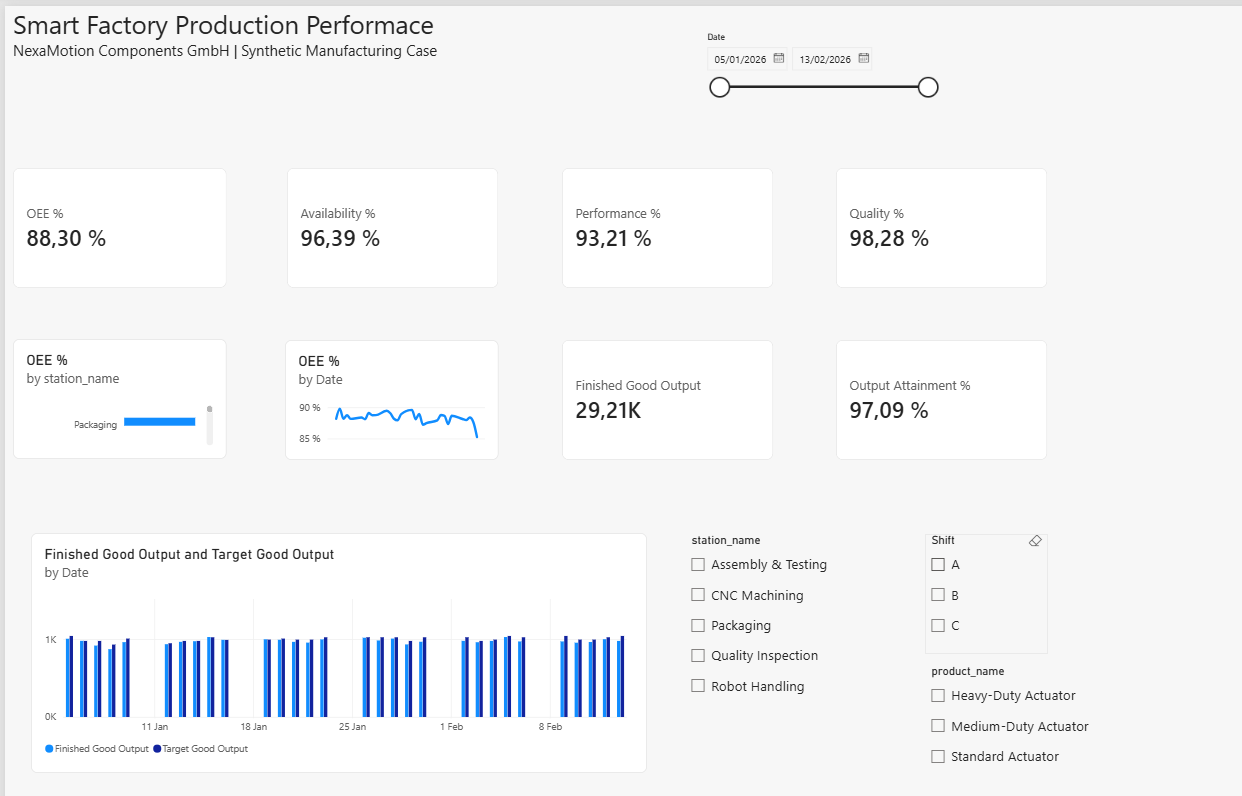

Layout of this report page (visuals, bound fields, positions):
{"tool":"powerbi","page":{"name":"Executive Overview","canvas":[1920,1080],"ordinal":1},"visuals":[{"type":"textbox","box":[10,0,562.9,125.7],"z":0},{"type":"cardVisual","fields":{"Data":["FactProduction.OEE %"]},"box":[10,202.9,267.1,150],"z":1000},{"type":"cardVisual","fields":{"Data":["FactProduction.Availability %"]},"box":[352.9,202.9,264.3,150],"z":2000},{"type":"cardVisual","fields":{"Data":["FactProduction.Performance %"]},"box":[695.7,202.9,264.3,150],"z":3000},{"type":"cardVisual","fields":{"Data":["FactProduction.Quality %"]},"box":[1038.6,202.9,264.3,150],"z":4000},{"type":"clusteredBarChart","fields":{"Category":["DimMachine.station_name"],"Y":["FactProduction.OEE %"]},"box":[10,416.7,267,150],"z":5000},{"type":"lineChart","fields":{"Category":["DimDate.Date"],"Y":["FactProduction.OEE %"]},"box":[350,417.3,267,150],"z":6000},{"type":"cardVisual","fields":{"Data":["FactLinePerformance.Finished Good Output"]},"box":[696,417,264,150],"z":7000},{"type":"cardVisual","fields":{"Data":["FactLinePerformance.Output Attainment %"]},"box":[1039,417,264,150],"z":8000},{"type":"clusteredColumnChart","fields":{"Category":["DimDate.Date"],"Y":["FactLinePerformance.Finished Good Output","FactLinePerformance.Target Good Output"]},"box":[33,659,770,300],"z":9000},{"type":"slicer","fields":{"Values":["DimDate.Date"]},"box":[870,32,300,137.5],"z":10000},{"type":"slicer","fields":{"Values":["DimMachine.station_name"]},"box":[850,660,218,210],"z":11000},{"type":"slicer","fields":{"Values":["DimShift.Shift"]},"box":[1150,660,154,150],"z":12000},{"type":"slicer","fields":{"Values":["DimProduct.product_name"]},"box":[1150,824,218,150],"z":13000}]}

Visuals, with their boxes on the page's 1920x1080 design canvas (x1, y1, x2, y2). These are canvas units, not pixel positions in the 1242x796 screenshot, which may show the page scaled, cropped or inside an application window:
textbox: (10,0,573,126)
cardVisual - FactProduction.OEE %: (10,203,277,353)
cardVisual - FactProduction.Availability %: (353,203,617,353)
cardVisual - FactProduction.Performance %: (696,203,960,353)
cardVisual - FactProduction.Quality %: (1039,203,1303,353)
clusteredBarChart - DimMachine.station_name x FactProduction.OEE %: (10,417,277,567)
lineChart - DimDate.Date x FactProduction.OEE %: (350,417,617,567)
cardVisual - FactLinePerformance.Finished Good Output: (696,417,960,567)
cardVisual - FactLinePerformance.Output Attainment %: (1039,417,1303,567)
clusteredColumnChart - DimDate.Date x FactLinePerformance.Finished Good Output: (33,659,803,959)
slicer - DimDate.Date: (870,32,1170,170)
slicer - DimMachine.station_name: (850,660,1068,870)
slicer - DimShift.Shift: (1150,660,1304,810)
slicer - DimProduct.product_name: (1150,824,1368,974)
